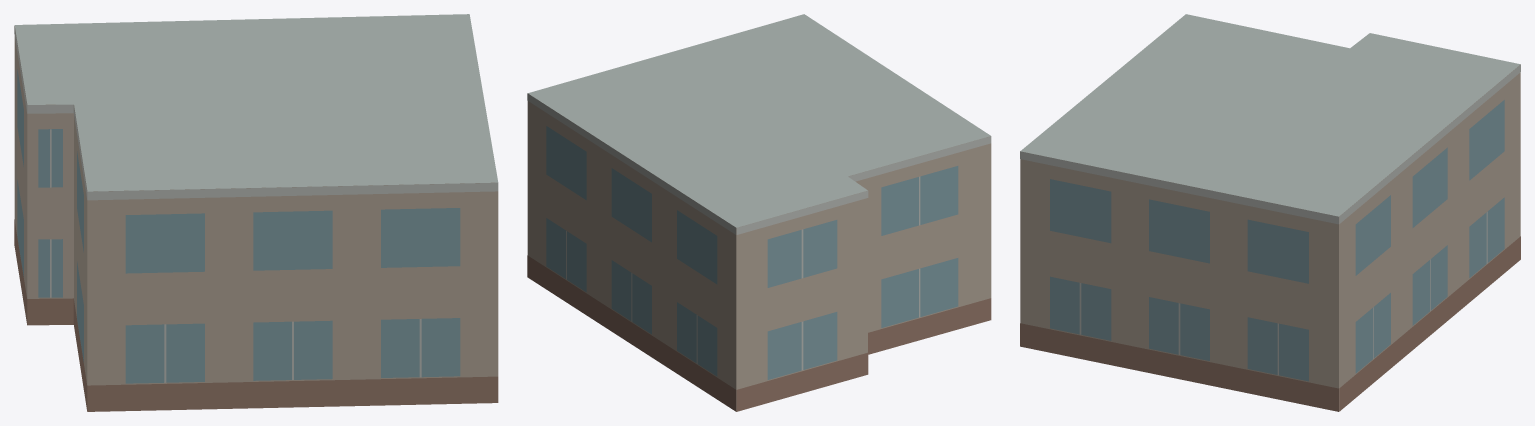
File: survey-upis-32550873.glb
3 views of the same model, side by side, from view 1: azimuth 30°, elevation 25°; view 2: azimuth 150°, elevation 25°; view 3: azimuth 270°, elevation 25° (orthographic). The views are drawn at different scales.
Visible parts, largest first — view 1: survey-upis-32550873.tmp; view 2: survey-upis-32550873.tmp; view 3: survey-upis-32550873.tmp.
Boxes of the visible parts, x1,y1,x2,y2 form: survey-upis-32550873.tmp: (14, 14, 498, 411); survey-upis-32550873.tmp: (527, 14, 991, 411); survey-upis-32550873.tmp: (1020, 14, 1520, 411).
Size of the model in its own units: 13.59 by 6.1 by 14.19.
